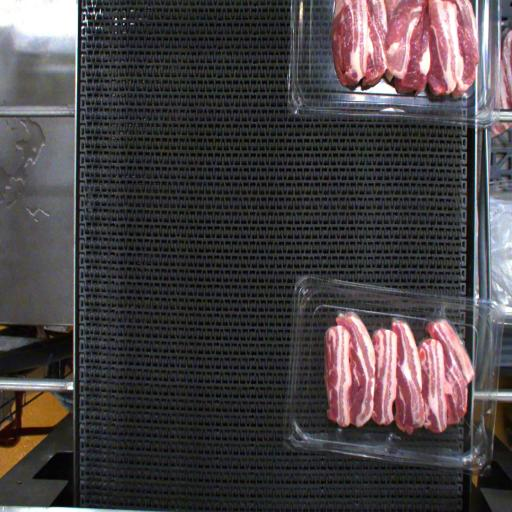packaging-error: (413, 295, 461, 334)
